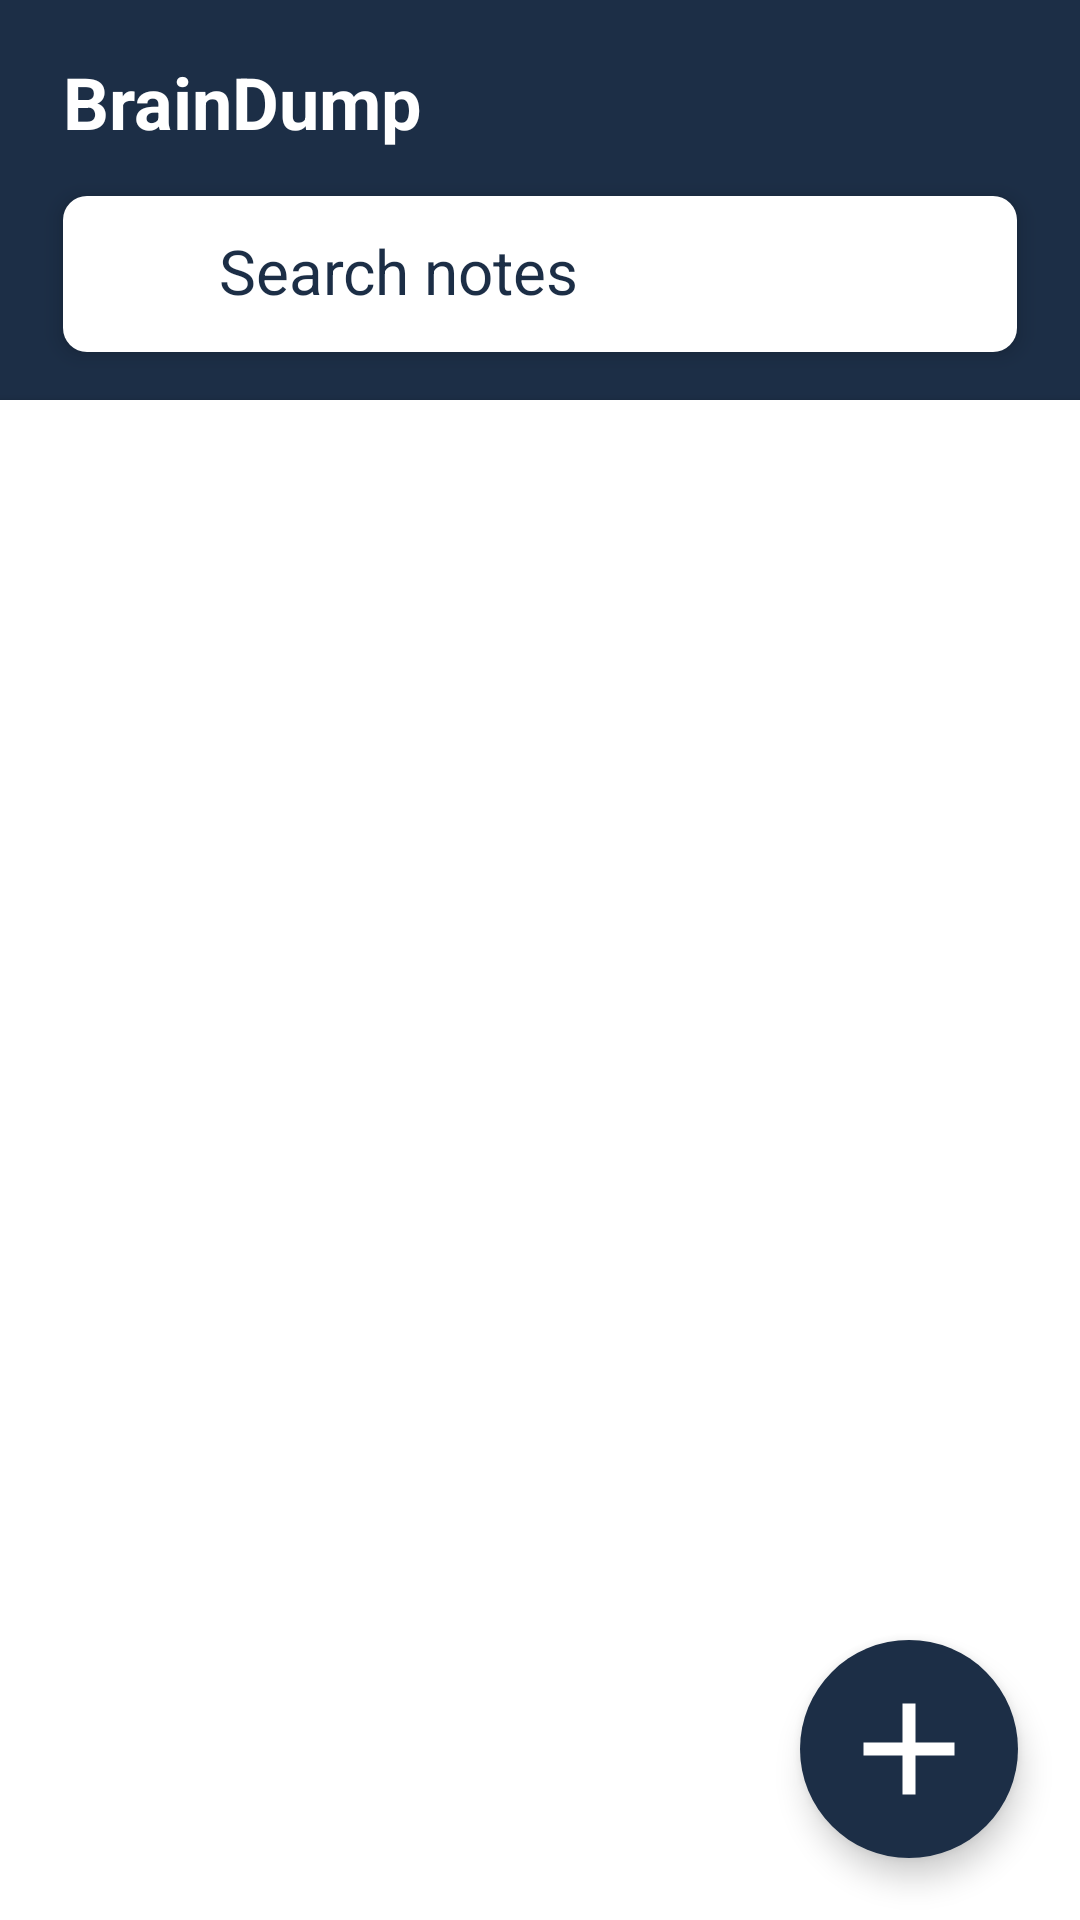

Screen size 1080x1920. Icon name, then its box in pixels as {"left": x1, "top": y1, "right": x2, "bottom": y2}:
add: {"left": 800, "top": 1640, "right": 1018, "bottom": 1858}
